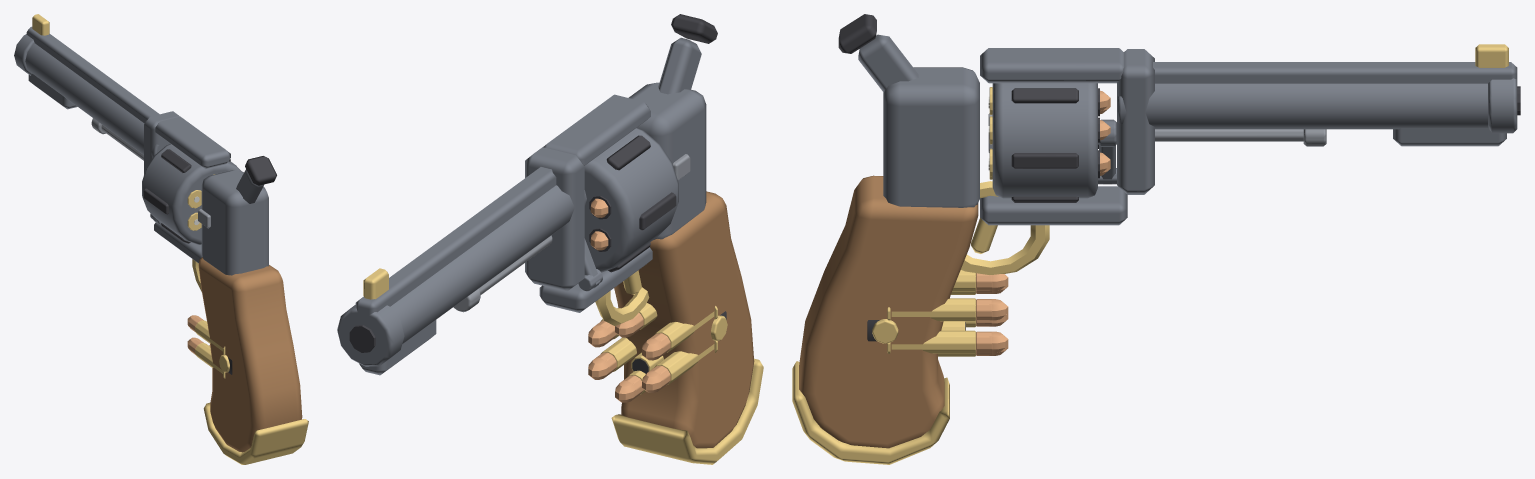
Rendered from Revolver.fbx.
3 renders of one model, left to right at view 1: azimuth 30°, elevation 25°; view 2: azimuth 150°, elevation 25°; view 3: azimuth 270°, elevation 25°, orthographic. The views are drawn at different scales.
Parts seen in each view (by area): view 1: Body, Cylinder, SpeedloaderRounds, Ejector; view 2: Body, Cylinder, SpeedloaderRounds, Ejector, Crane; view 3: Body, Cylinder, SpeedloaderRounds, Ejector, Crane.
Boxes of the visible parts, bbox=[...] form: Body: bbox=[14, 14, 308, 464]; Cylinder: bbox=[142, 144, 241, 244]; SpeedloaderRounds: bbox=[187, 315, 225, 378]; Ejector: bbox=[91, 118, 143, 160]; Body: bbox=[337, 14, 763, 464]; Cylinder: bbox=[584, 128, 678, 272]; SpeedloaderRounds: bbox=[588, 303, 717, 402]; Ejector: bbox=[453, 235, 552, 312]; Crane: bbox=[578, 238, 602, 291]; Body: bbox=[792, 14, 1520, 464]; Cylinder: bbox=[992, 83, 1099, 202]; SpeedloaderRounds: bbox=[887, 270, 1008, 356]; Ejector: bbox=[988, 113, 1326, 152]; Crane: bbox=[1098, 119, 1116, 184].
Size of the model in its own units: 0.066 by 0.2247 by 0.3456.
